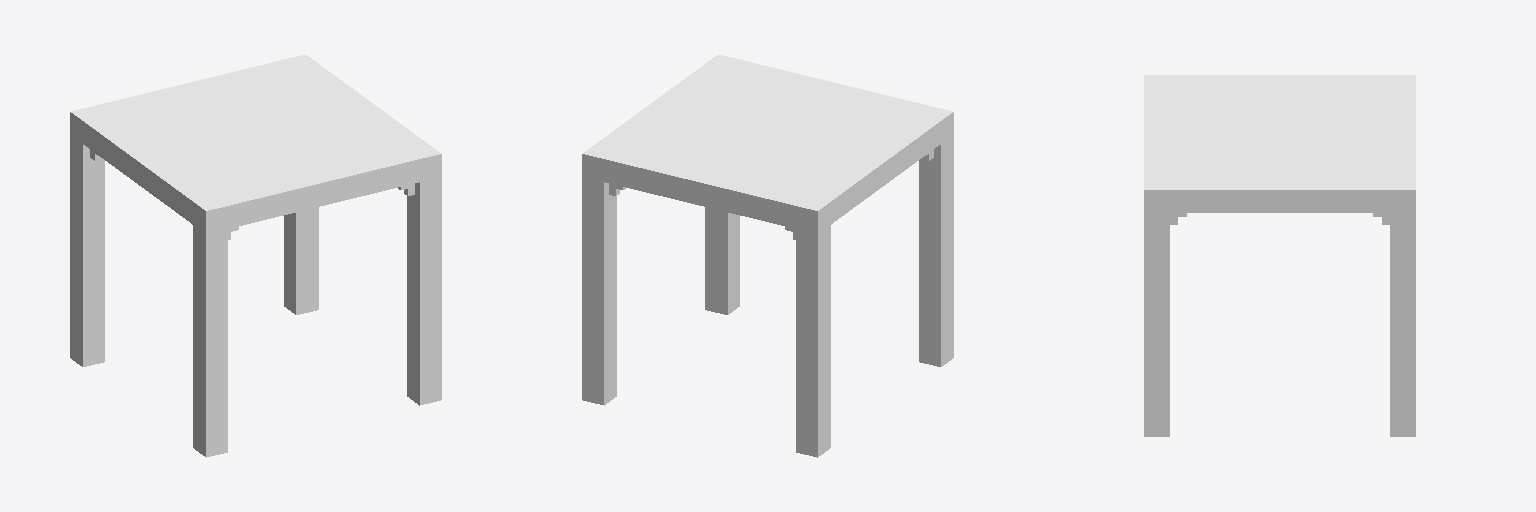
The model's file is BasicTable.obj.
3 renders of one model, left to right at view 1: azimuth 30°, elevation 25°; view 2: azimuth 150°, elevation 25°; view 3: azimuth 270°, elevation 25°, orthographic.
Parts seen in each view (by area): view 1: object 1; view 2: object 1; view 3: object 1.
Part boxes in pixels (bbox=[...]): object 1: bbox=[70, 54, 441, 457]; object 1: bbox=[582, 54, 953, 457]; object 1: bbox=[1144, 75, 1415, 436].
Size of the model in its own units: 3.2 by 3.2 by 3.2.